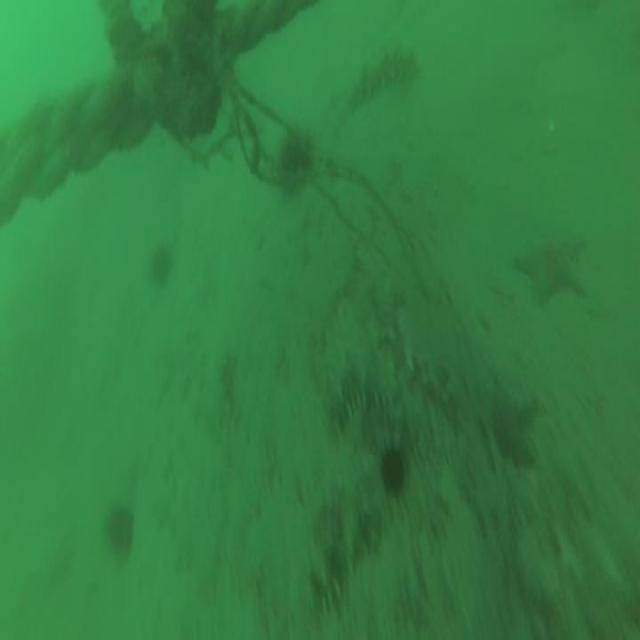echinus: (103, 496, 134, 560), (379, 440, 405, 510)
holothurian: (300, 492, 372, 620), (316, 365, 401, 430)
starfish: (512, 228, 592, 310), (484, 371, 542, 476)
